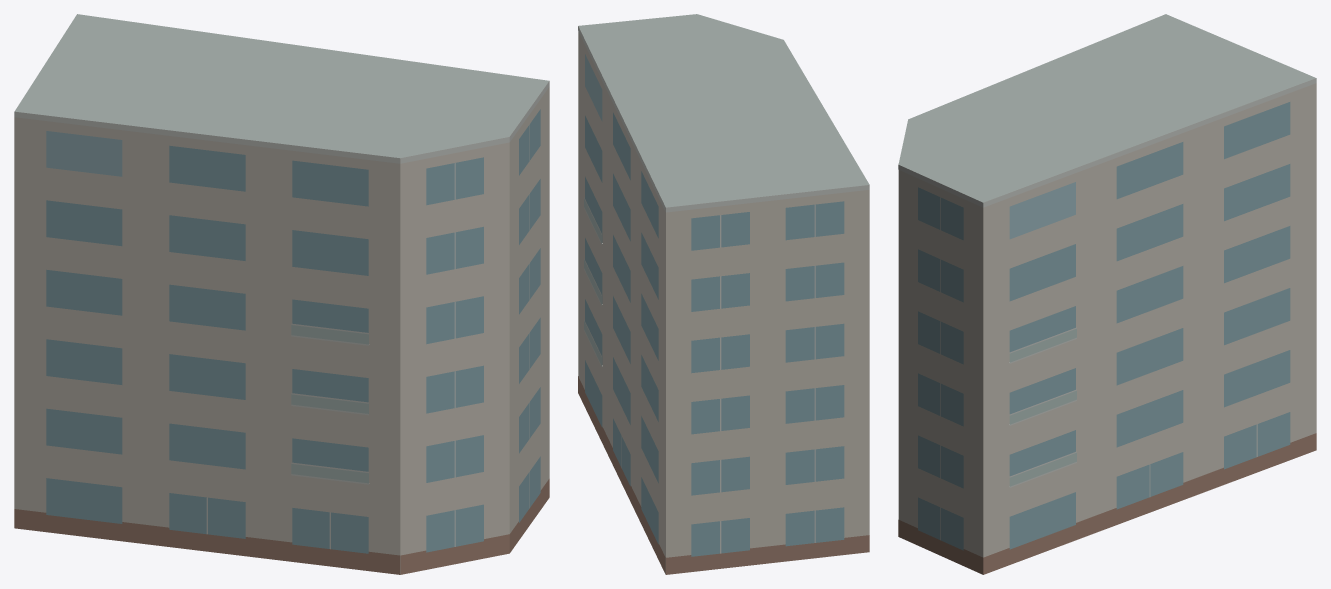
File: survey-upis-32652670.glb
3 renders of one model, left to right at view 1: azimuth 30°, elevation 25°; view 2: azimuth 150°, elevation 25°; view 3: azimuth 270°, elevation 25°, orthographic. The views are drawn at different scales.
Parts seen in each view (by area): view 1: survey-upis-32652670.tmp; view 2: survey-upis-32652670.tmp; view 3: survey-upis-32652670.tmp.
Boxes of the visible parts, x1,y1,x2,y2 form: survey-upis-32652670.tmp: (14, 14, 549, 574); survey-upis-32652670.tmp: (578, 14, 869, 574); survey-upis-32652670.tmp: (898, 14, 1316, 574).
Bounding box in the file's own units: 19.91 × 18.3 × 18.64.
